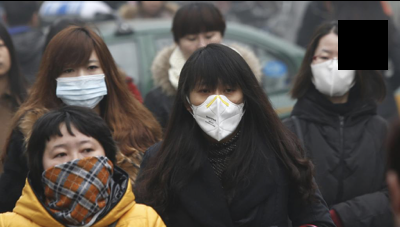with_mask: (40, 137, 109, 218), (189, 78, 246, 140), (54, 57, 111, 112), (311, 48, 358, 98)
without_mask: (182, 32, 221, 60)
